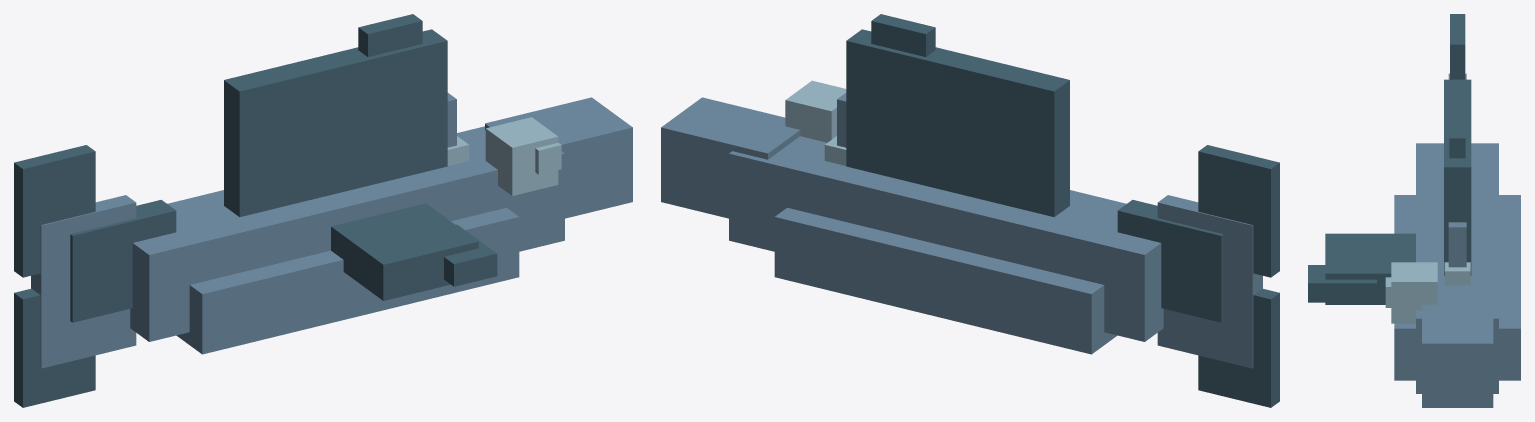
Rendered from fish_squall_smelt.glb.
3 renders of one model, left to right at view 1: azimuth 30°, elevation 25°; view 2: azimuth 150°, elevation 25°; view 3: azimuth 270°, elevation 25°, orthographic. The views are drawn at different scales.
Visible parts, largest first — view 1: FishArt_body, FishArt_dorsal, FishArt_tail, FishArt_pectoral, FishArt_eye; view 2: FishArt_body, FishArt_dorsal, FishArt_tail, FishArt_eye; view 3: FishArt_body, FishArt_pectoral, FishArt_dorsal, FishArt_eye, FishArt_tail, FishArt_specialty.
Boxes of the visible parts, bbox=[...] form: FishArt_body: bbox=[31, 93, 632, 368]; FishArt_dorsal: bbox=[224, 14, 447, 217]; FishArt_tail: bbox=[14, 145, 176, 407]; FishArt_pectoral: bbox=[331, 203, 497, 300]; FishArt_eye: bbox=[485, 117, 561, 195]; FishArt_body: bbox=[661, 93, 1262, 368]; FishArt_dorsal: bbox=[846, 14, 1069, 217]; FishArt_tail: bbox=[1117, 145, 1279, 407]; FishArt_eye: bbox=[785, 80, 846, 142]; FishArt_body: bbox=[1394, 73, 1520, 407]; FishArt_pectoral: bbox=[1308, 233, 1415, 304]; FishArt_dorsal: bbox=[1444, 79, 1471, 275]; FishArt_eye: bbox=[1385, 262, 1437, 323]; FishArt_tail: bbox=[1450, 14, 1465, 79]; FishArt_specialty: bbox=[1444, 262, 1470, 285].
Bounding box in the file's own units: 0.3091 × 0.1442 × 0.111.
